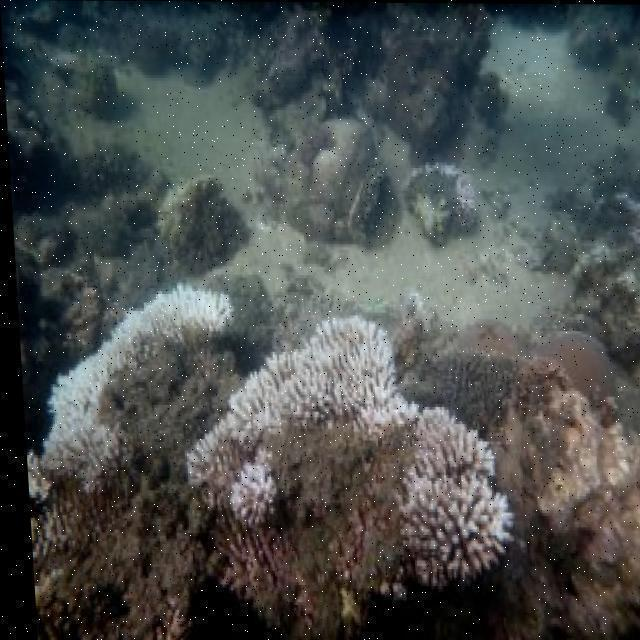Bleached Coral: (172, 299, 410, 538), (17, 257, 251, 486), (382, 399, 488, 602)
